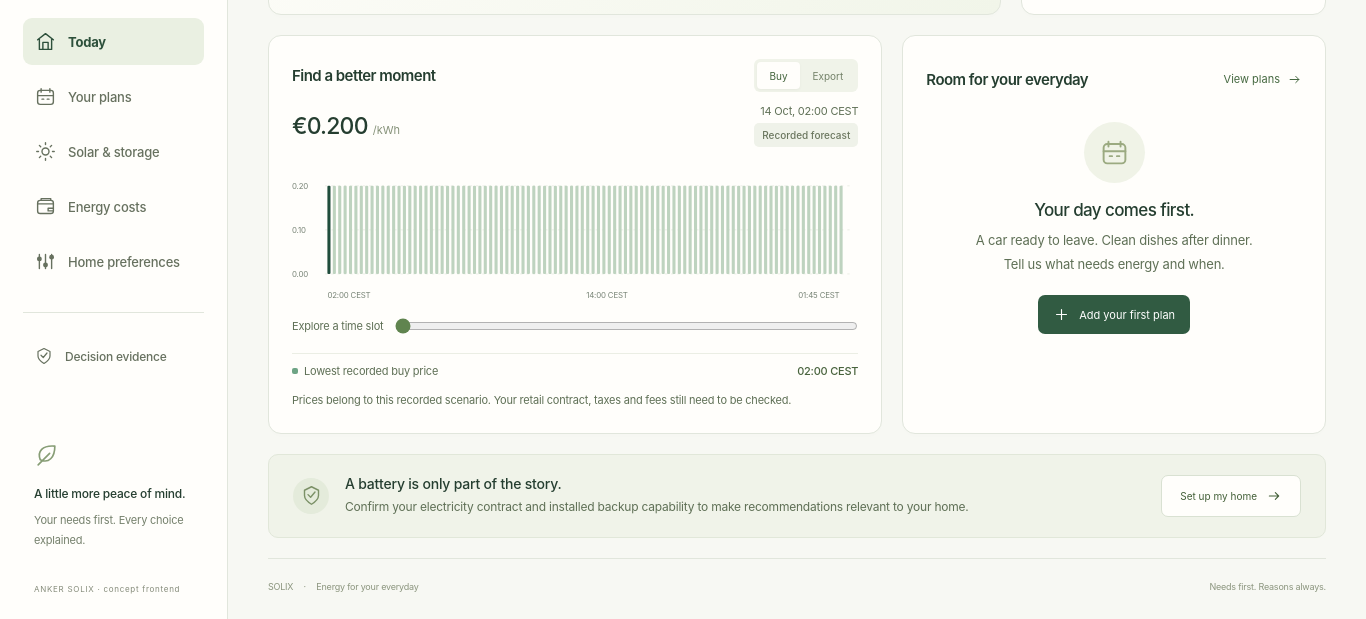
it: Household-first experience › retains all 96 forecast slots and allows inspecting the final slot
(page scrolled)
Set the slider labelled "Explore a time slot" to "95" at (850, 326), box x1=395 y1=312 x2=858 y2=340
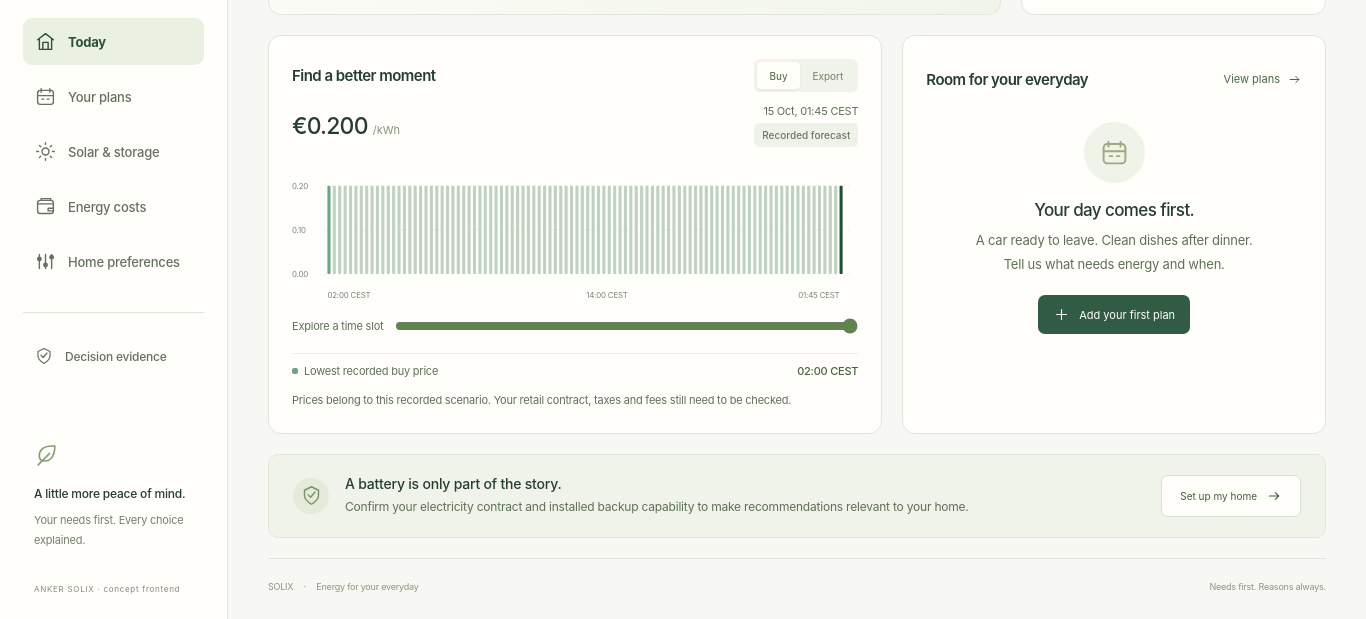
Expected: the text "15 Oct, 01:45 CEST" is shown, x1=763 y1=104 x2=858 y2=118
